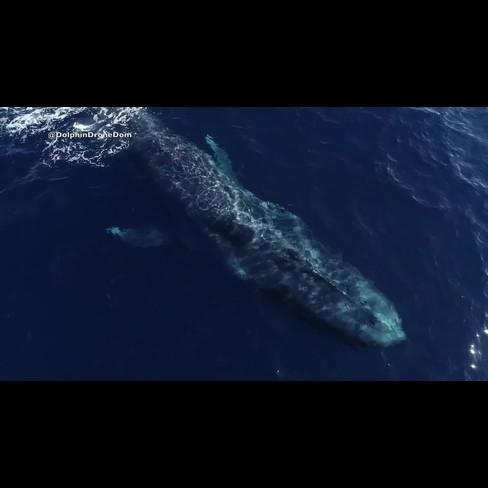bluewhale: (88, 108, 413, 354)
